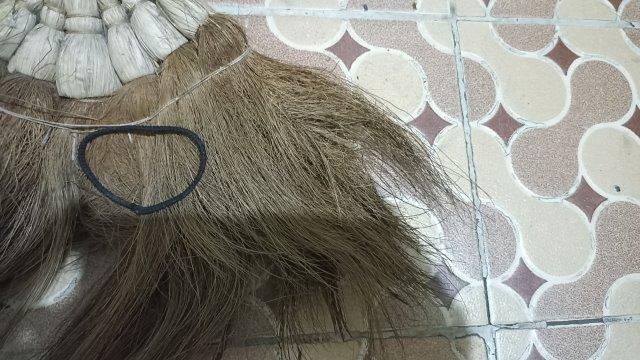karet: (78, 125, 207, 214)
